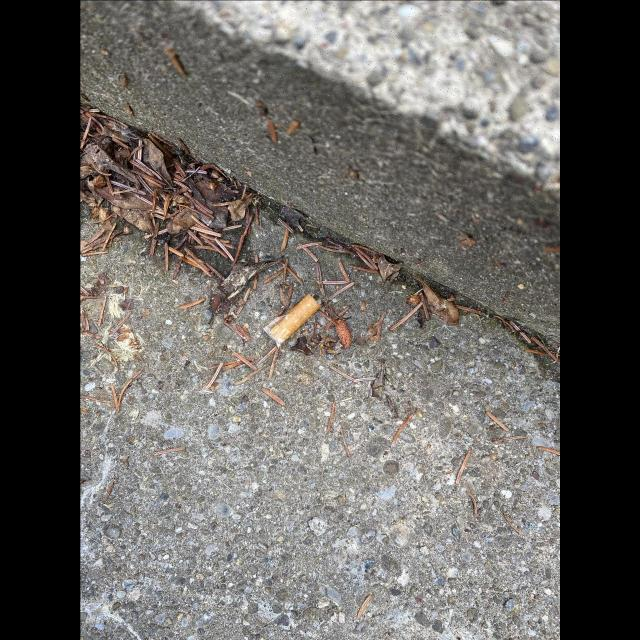cigarette: (263, 293, 321, 348)
